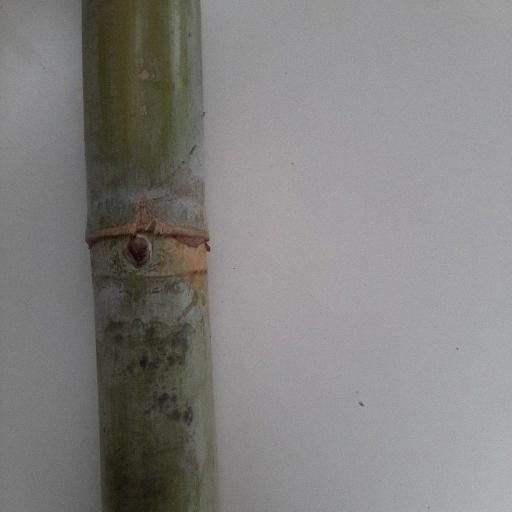Bud: (122, 234, 154, 269)
